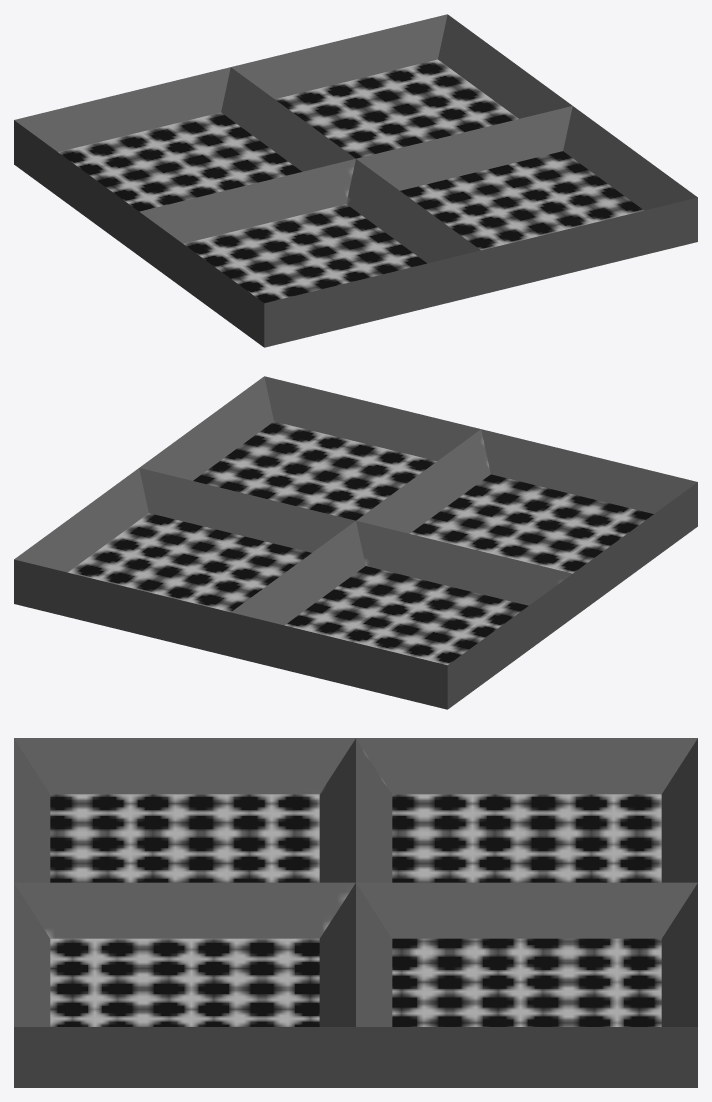
The model's file is Light.fbx.
3 renders of one model, top to bottom at view 1: azimuth 30°, elevation 25°; view 2: azimuth 150°, elevation 25°; view 3: azimuth 270°, elevation 25°, orthographic. The views are drawn at different scales.
Visible parts, largest first — view 1: Light; view 2: Light; view 3: Light.
Part boxes in pixels (left/top/right/bottom): Light: left=14, top=14, right=697, bottom=347; Light: left=14, top=376, right=697, bottom=709; Light: left=14, top=738, right=697, bottom=1087.
Size of the model in its own units: 79.41 by 7.78 by 79.41.
